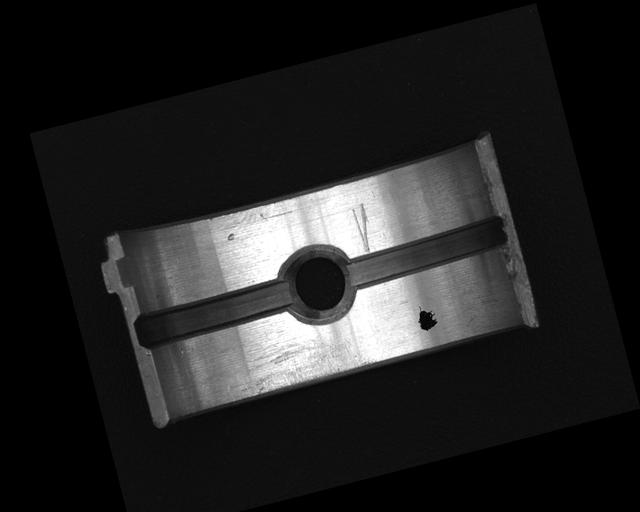blot: (413, 301, 441, 334)
bruise: (225, 231, 236, 241)
gap: (338, 209, 515, 293), (130, 272, 298, 351)
hole: (275, 240, 361, 330)
nick: (349, 201, 378, 255)
scratch: (217, 321, 379, 405)
